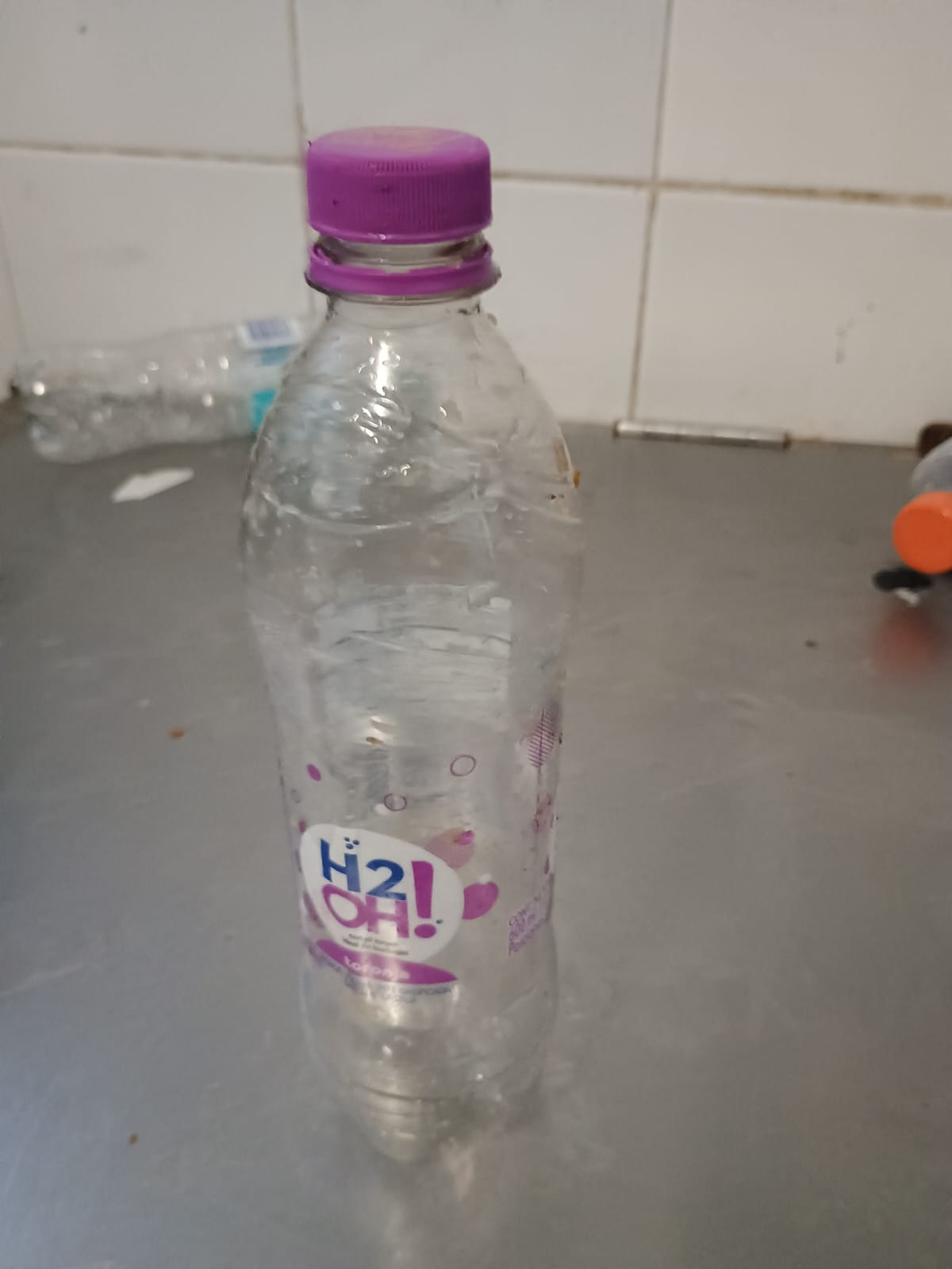Plastico: (255, 129, 579, 1165), (21, 320, 253, 464)
